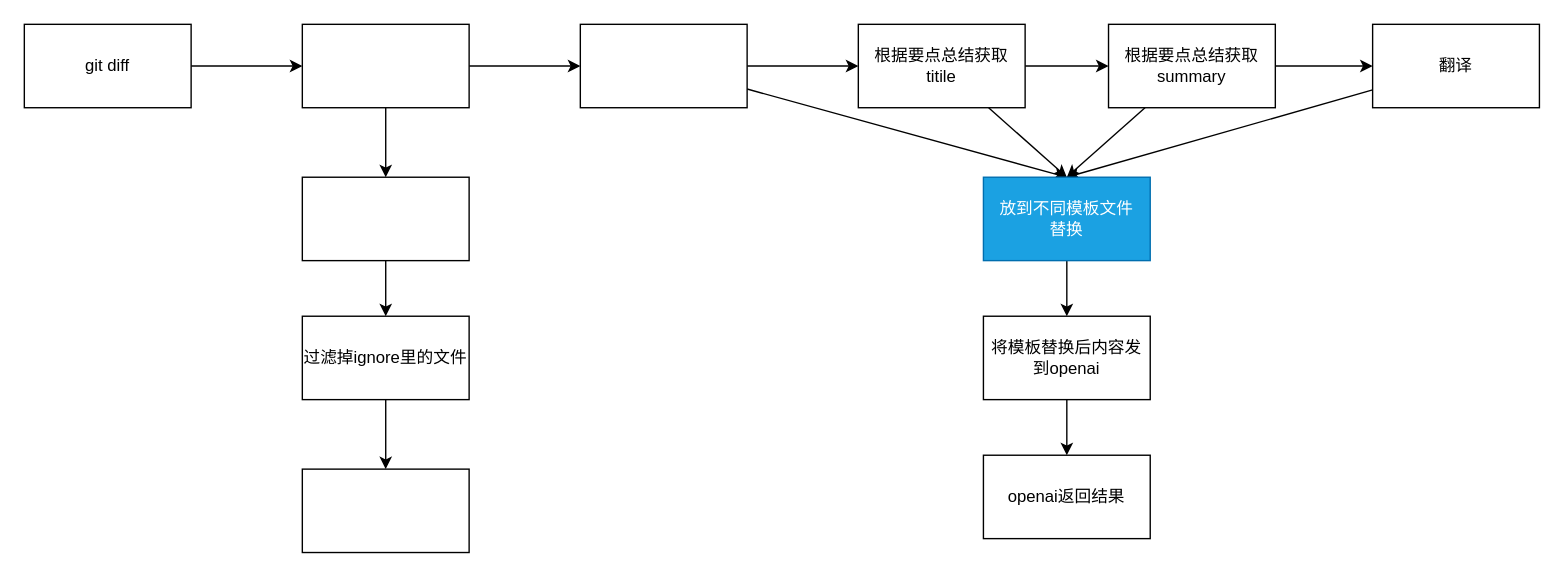
This 1564x577 diagram has some shape labels left out. Each missing label, with the centre of its shape:
利用\ndiff --git分割成字符串: pixel 385 218
获取file_diff_content: pixel 385 510
获取总结要点 summary_points: pixel 663 65
获取解析更改内容: pixel 385 65
